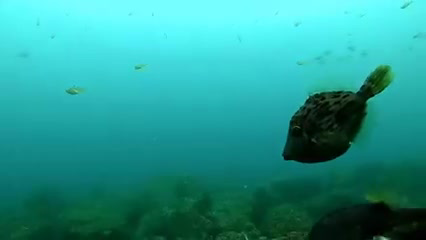kawahagi: (276, 54, 392, 166)
smallfish: (62, 77, 92, 100)
